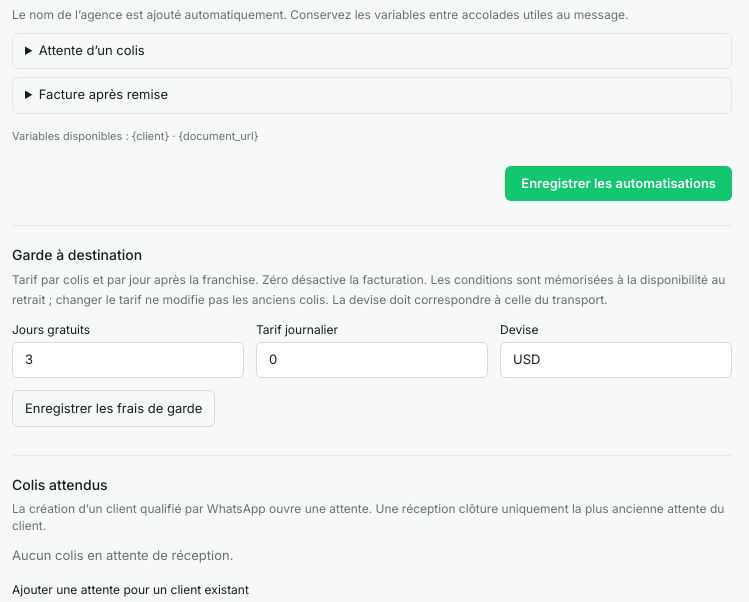
Test: saves storage settings without weakening identity or payment requirements
The image size is (749, 602).
(page scrolled)
Step 1. Replace the text in the number field labelled "Tarif journalier" with "2.50" → (372, 360), box [256, 342, 488, 378]
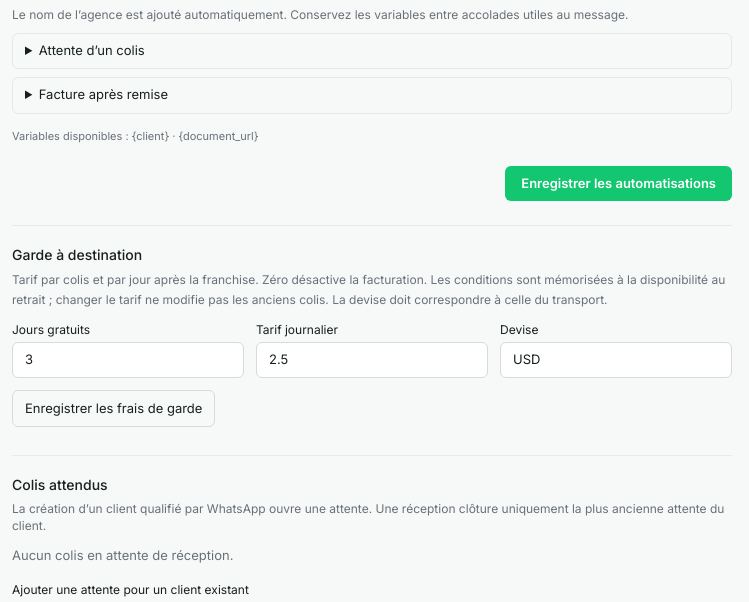
Step 2. Click the button "Enregistrer les frais de garde" → (114, 408), box [12, 390, 215, 427]
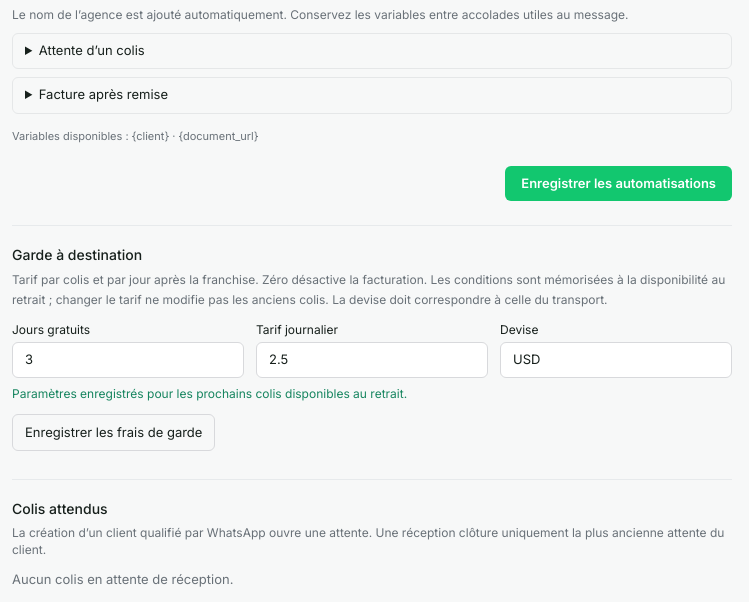
Expected: the text "Paramètres enregistrés pour les prochains colis disponibles au retrait." is shown, [12, 386, 407, 401]
